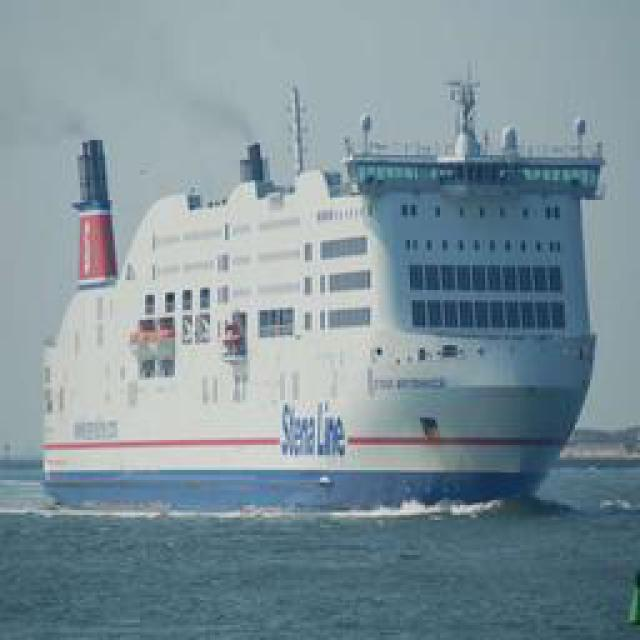Ship: (45, 51, 600, 511)
